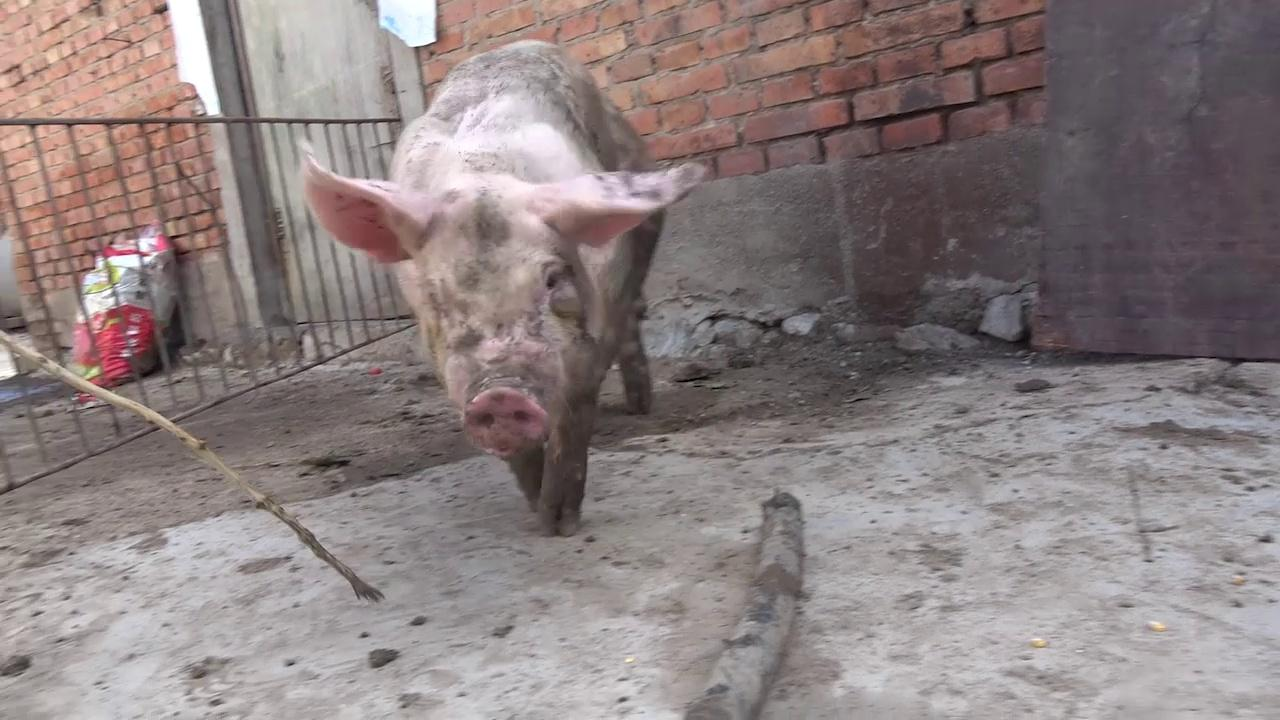Face: (289, 145, 723, 468)
